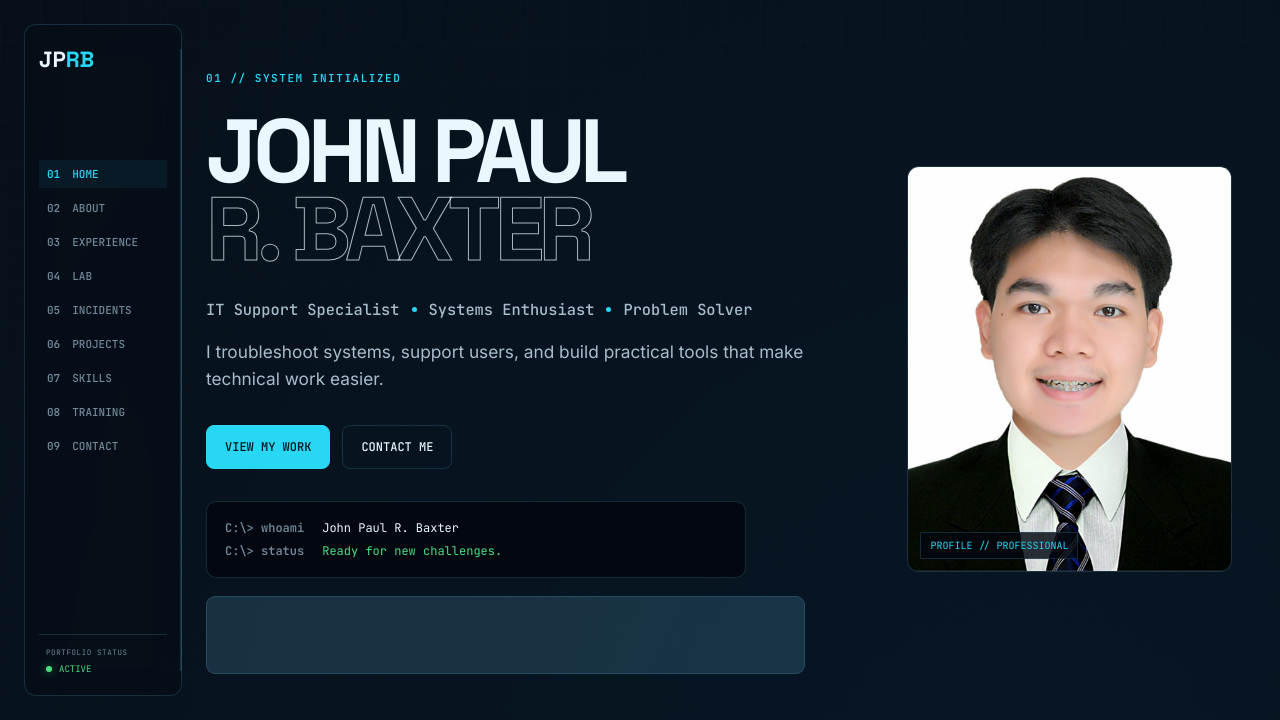
portrait toggles from professional to graduate on tap
Click the button with aria-label "toggle between professional".
click(1070, 369)  # box left=908, top=166, right=1232, bottom=572
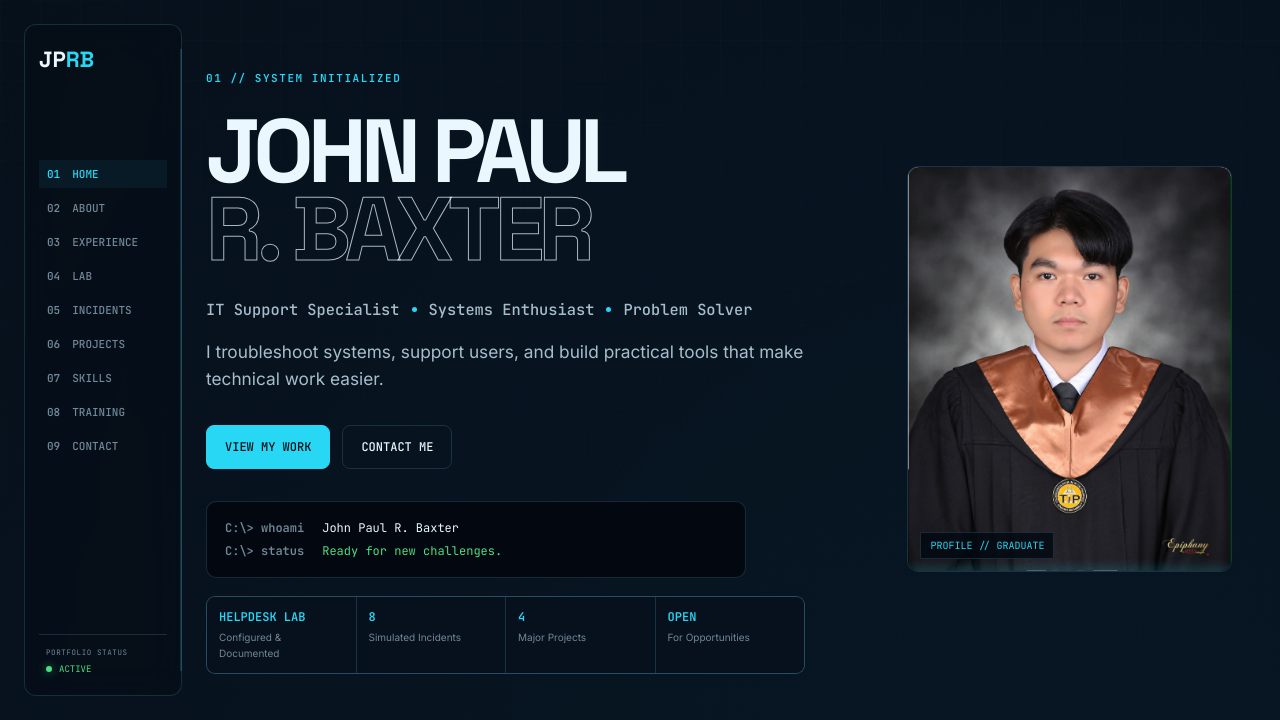
Result: the text "PROFILE // GRADUATE" is shown at left=920, top=532, right=1054, bottom=559
